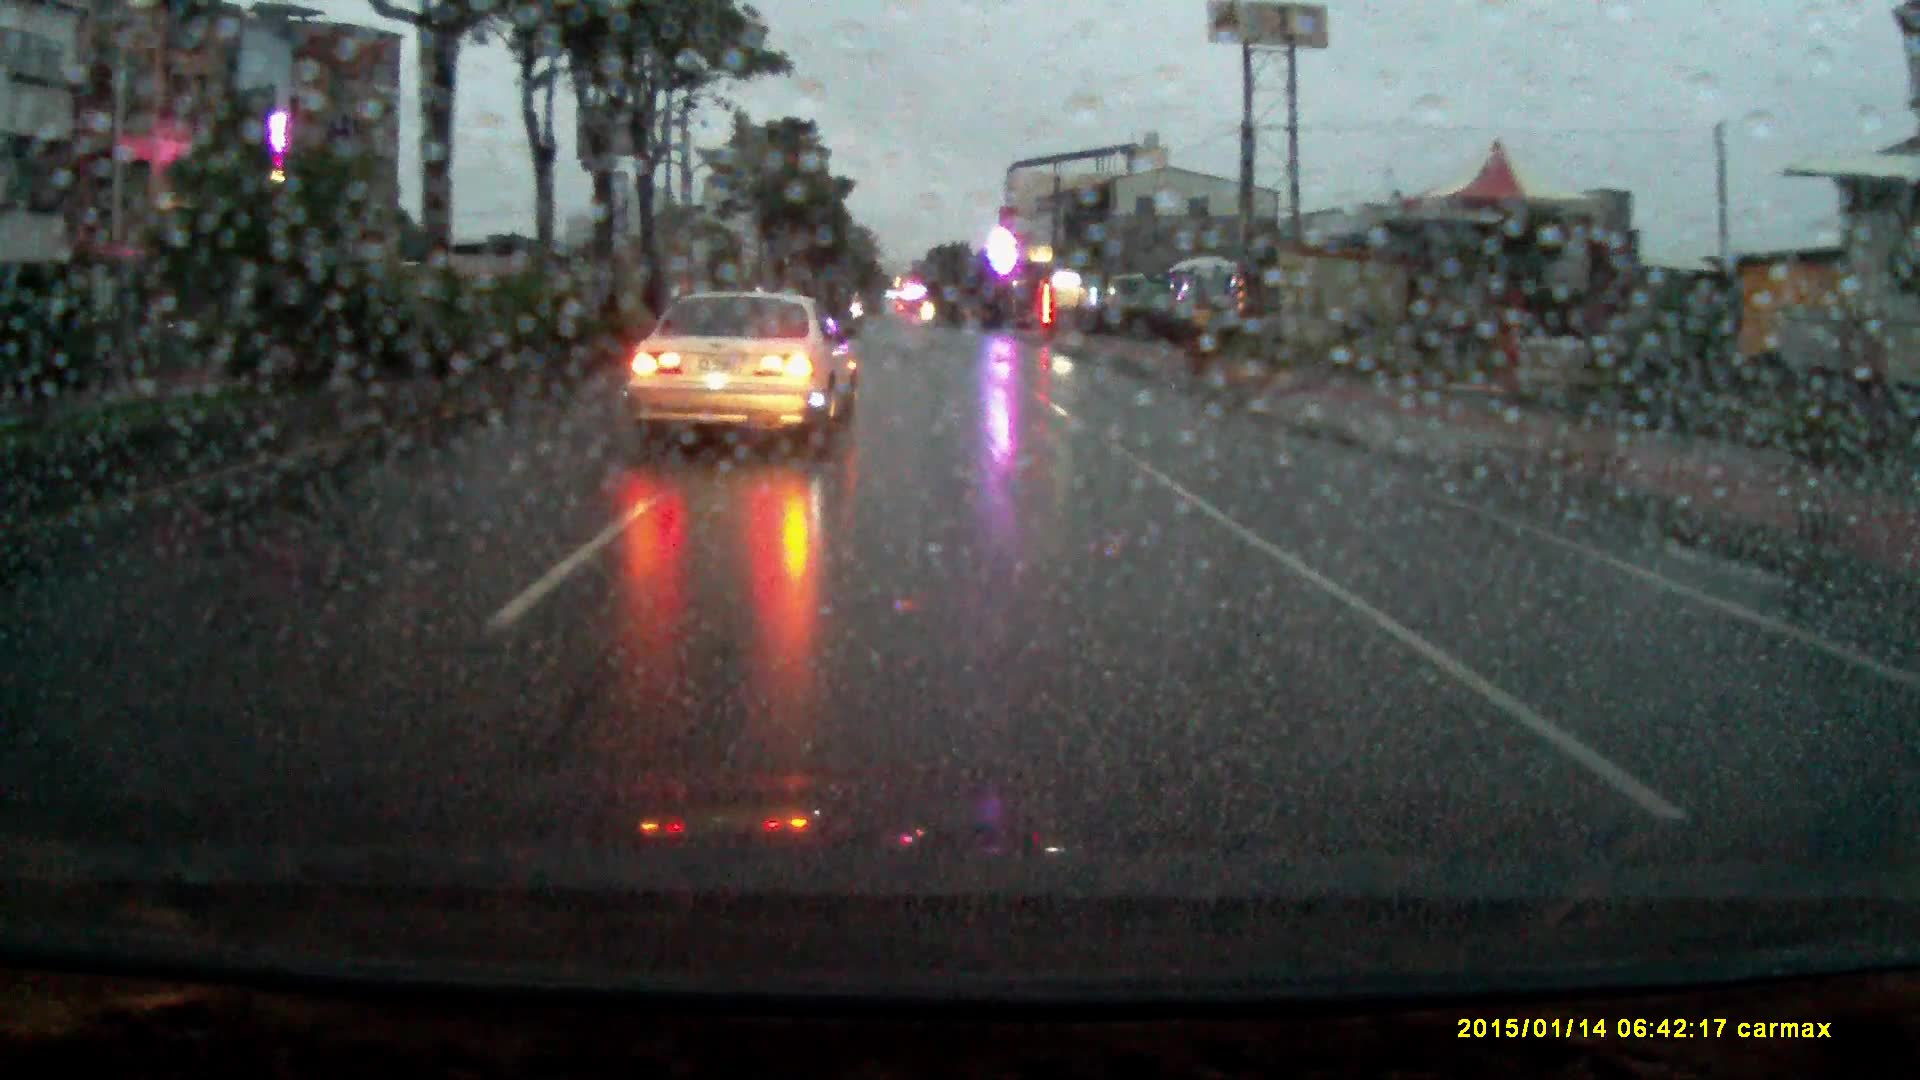vehicle: (622, 287, 865, 455), (1168, 260, 1245, 344), (1106, 276, 1155, 330)
